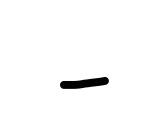minus: (60, 77, 109, 89)
